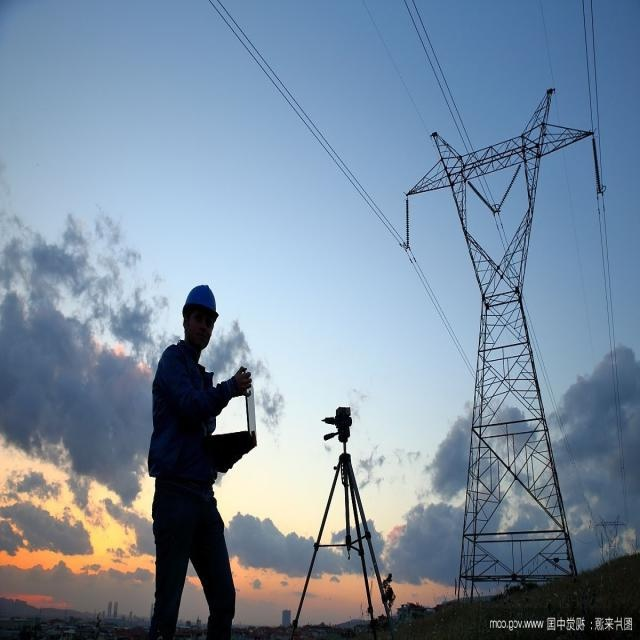Con_Casco: (181, 283, 219, 345)
